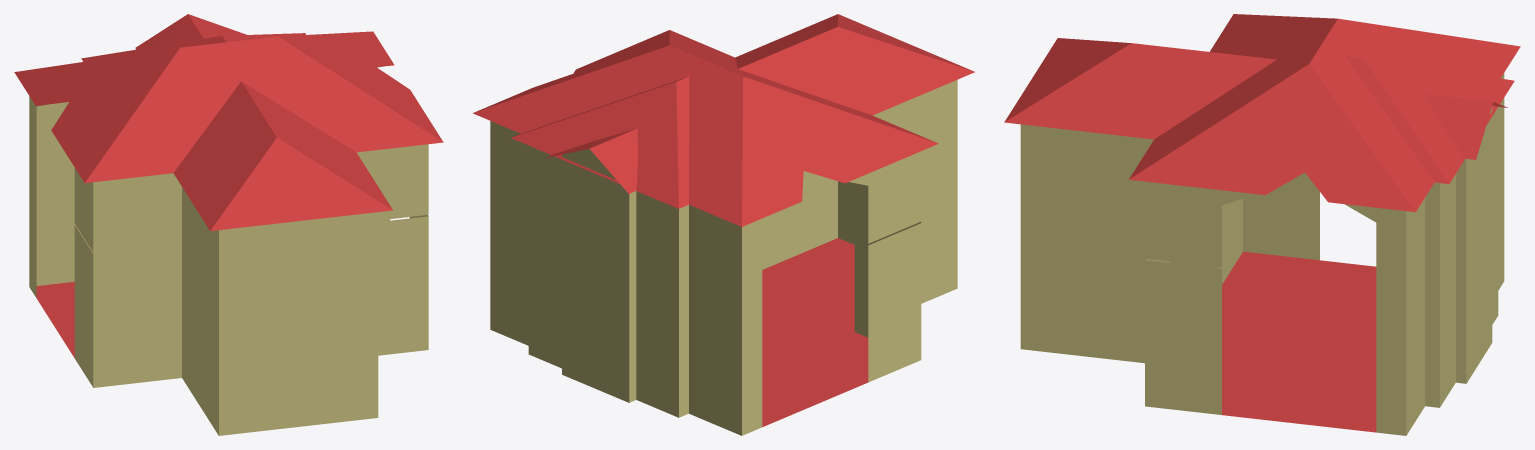
3 views of the same model, side by side, from view 1: azimuth 30°, elevation 25°; view 2: azimuth 150°, elevation 25°; view 3: azimuth 270°, elevation 25° (orthographic). The views are drawn at different scales.
Bounding box in the file's own units: 26.21 × 28.86 × 18.65.
